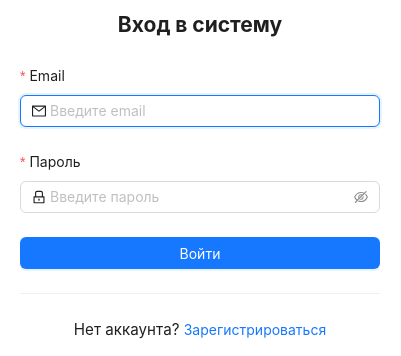
Test case: LoginForm › Валидация формы › должен показывать ошибку при пустом пароле
The image size is (401, 356).
Type "test@example.com" into the field with test id "email-input" at (209,111), box [50,100,368,122]
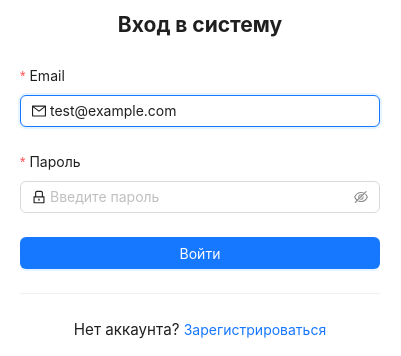
Click the button "Войти" at (200,253), box [20,237,380,269]
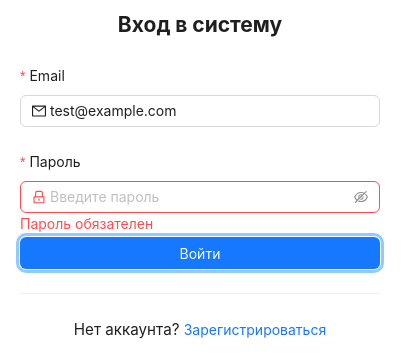
Expected: the text "Пароль обязателен" is shown, [20,215,153,232]
